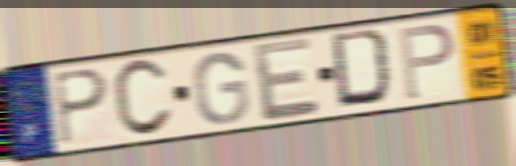C: (110, 56, 177, 141)
D: (328, 26, 400, 111)
E: (250, 34, 323, 125)
G: (190, 49, 252, 127)
P: (50, 66, 112, 149), (396, 21, 457, 104)
